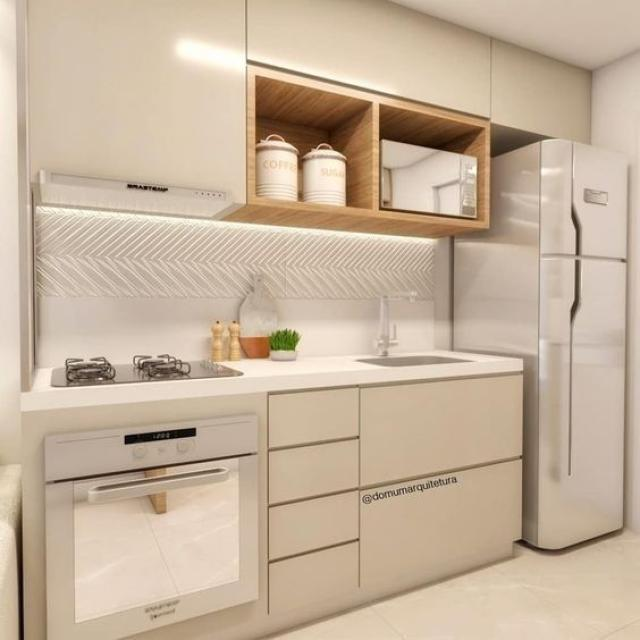obstacle: (451, 138, 628, 550), (270, 362, 524, 603), (247, 65, 491, 230)
